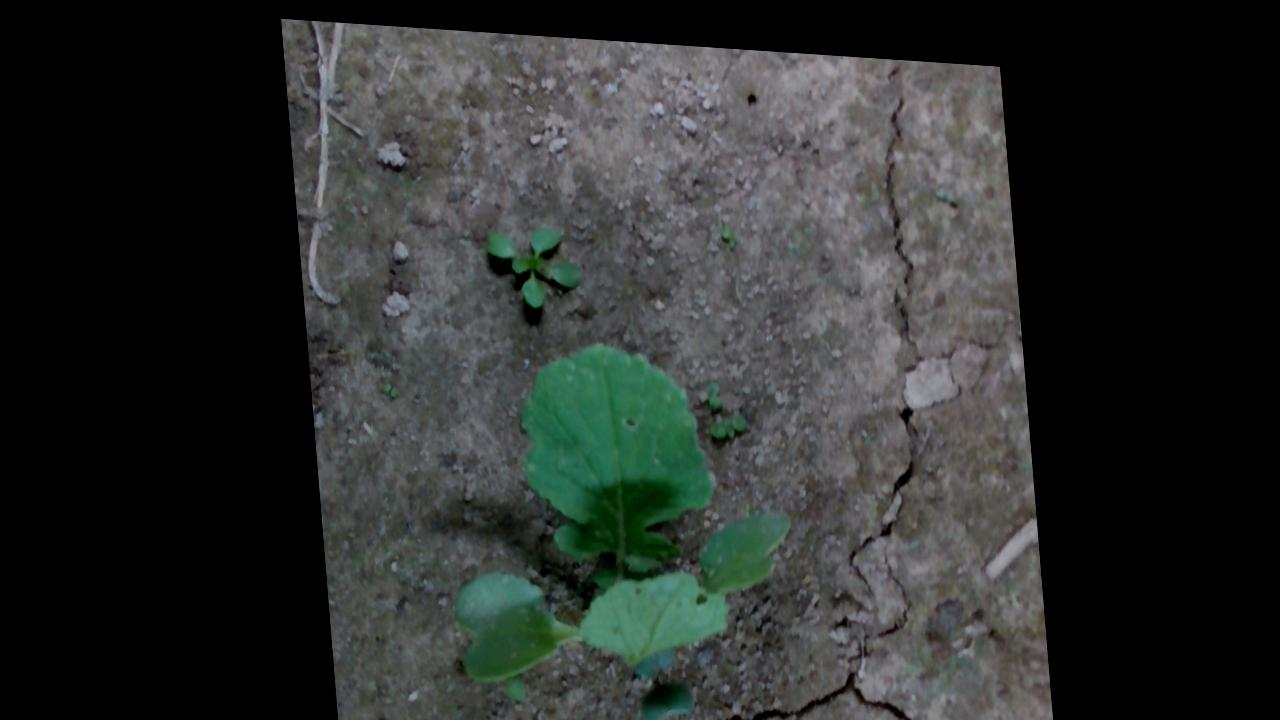weed: (701, 402, 744, 432), (699, 369, 718, 400), (373, 375, 395, 393), (352, 718, 398, 719)
